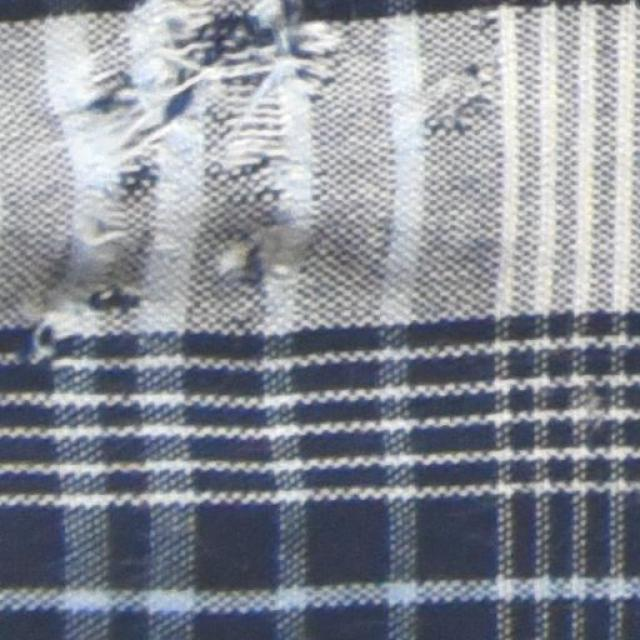Snag: (162, 1, 340, 303), (28, 3, 147, 360), (415, 64, 485, 152)
